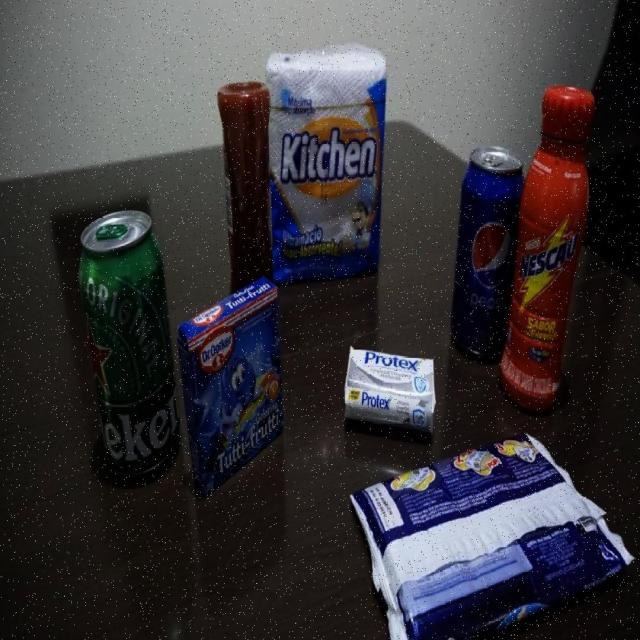BeerCan: (76, 208, 182, 484)
ChocolateMilk: (499, 81, 595, 414)
Gelatine: (176, 276, 284, 498)
Ketchup: (218, 80, 276, 298)
Napkin: (262, 43, 388, 290)
Popcorn: (346, 433, 636, 640)
Soap: (342, 344, 437, 439)
SodaCan: (450, 144, 518, 362)
